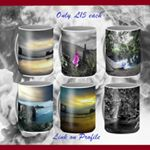cups: (9, 22, 56, 78), (101, 22, 145, 79), (55, 81, 99, 136), (11, 81, 55, 135), (57, 24, 99, 78), (102, 81, 142, 136)
